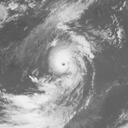cyclone: (47, 43, 85, 77)
